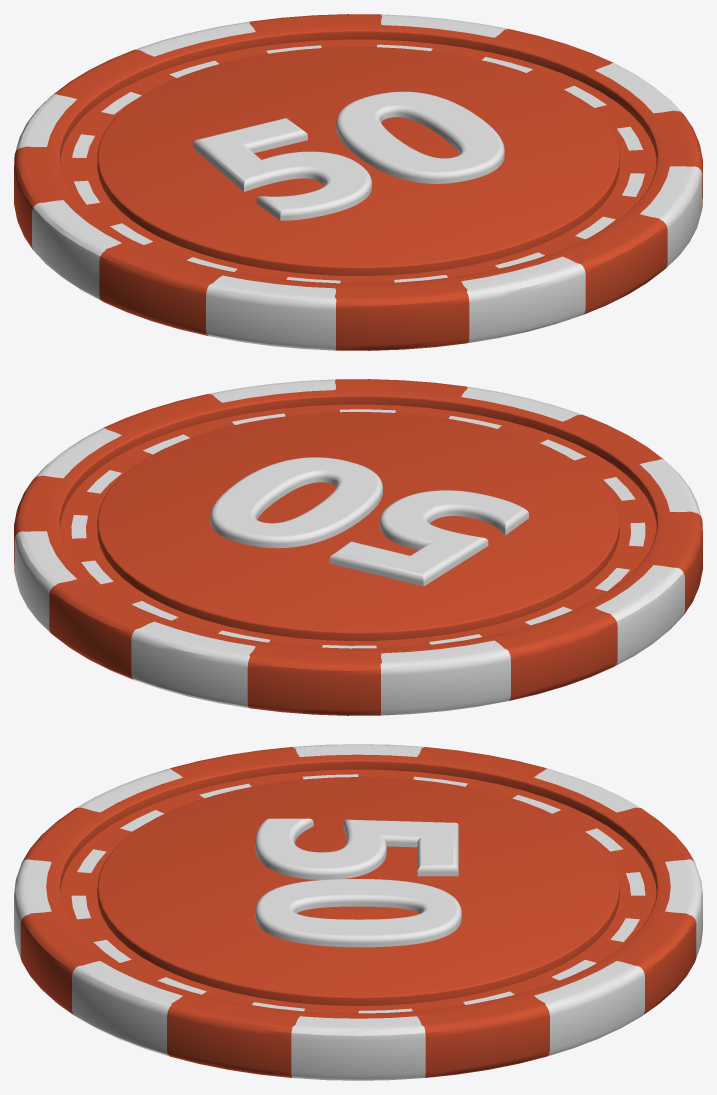
The model's file is poker_chip_50.glb.
3 views of the same model, one above another, from view 1: azimuth 30°, elevation 25°; view 2: azimuth 150°, elevation 25°; view 3: azimuth 270°, elevation 25° (orthographic).
Visible parts, largest first — view 1: Chip_0; view 2: Chip_0; view 3: Chip_0.
Boxes of the visible parts, x1,y1,x2,y2 form: Chip_0: (14, 14, 702, 350); Chip_0: (14, 379, 702, 715); Chip_0: (14, 744, 702, 1080).
Bounding box in the file's own units: 0.0802 × 0.00911 × 0.0802.
